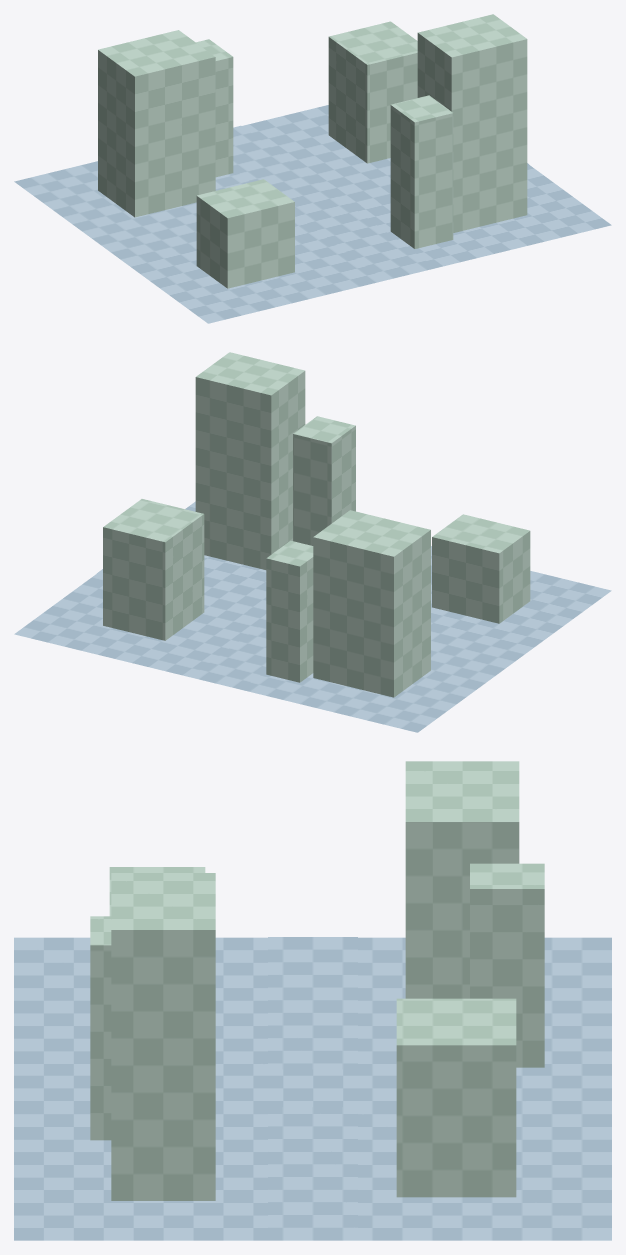
The model's file is result.glb.
The picture shows the model from 3 angles, top to bottom: view 1: azimuth 30°, elevation 25°; view 2: azimuth 150°, elevation 25°; view 3: azimuth 270°, elevation 25°; orthographic projection. The views are drawn at different scales.
Parts seen in each view (by area): view 1: Viewer baked procedural surfaces; view 2: Viewer baked procedural surfaces; view 3: Viewer baked procedural surfaces.
Boxes of the visible parts, x1,y1,x2,y2 form: Viewer baked procedural surfaces: (14,14,611,323); Viewer baked procedural surfaces: (14,352,611,732); Viewer baked procedural surfaces: (14,761,611,1240).
Bounding box in the file's own units: 24 × 10 × 20.
2 materials, 2 textured.
